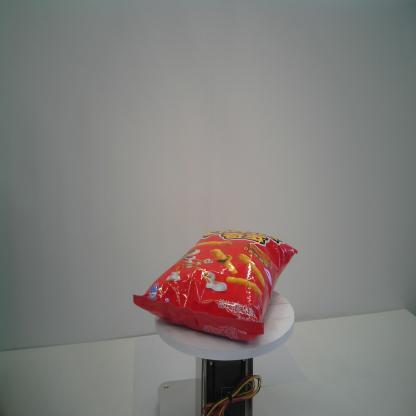Puffed Food: (130, 228, 298, 343)
